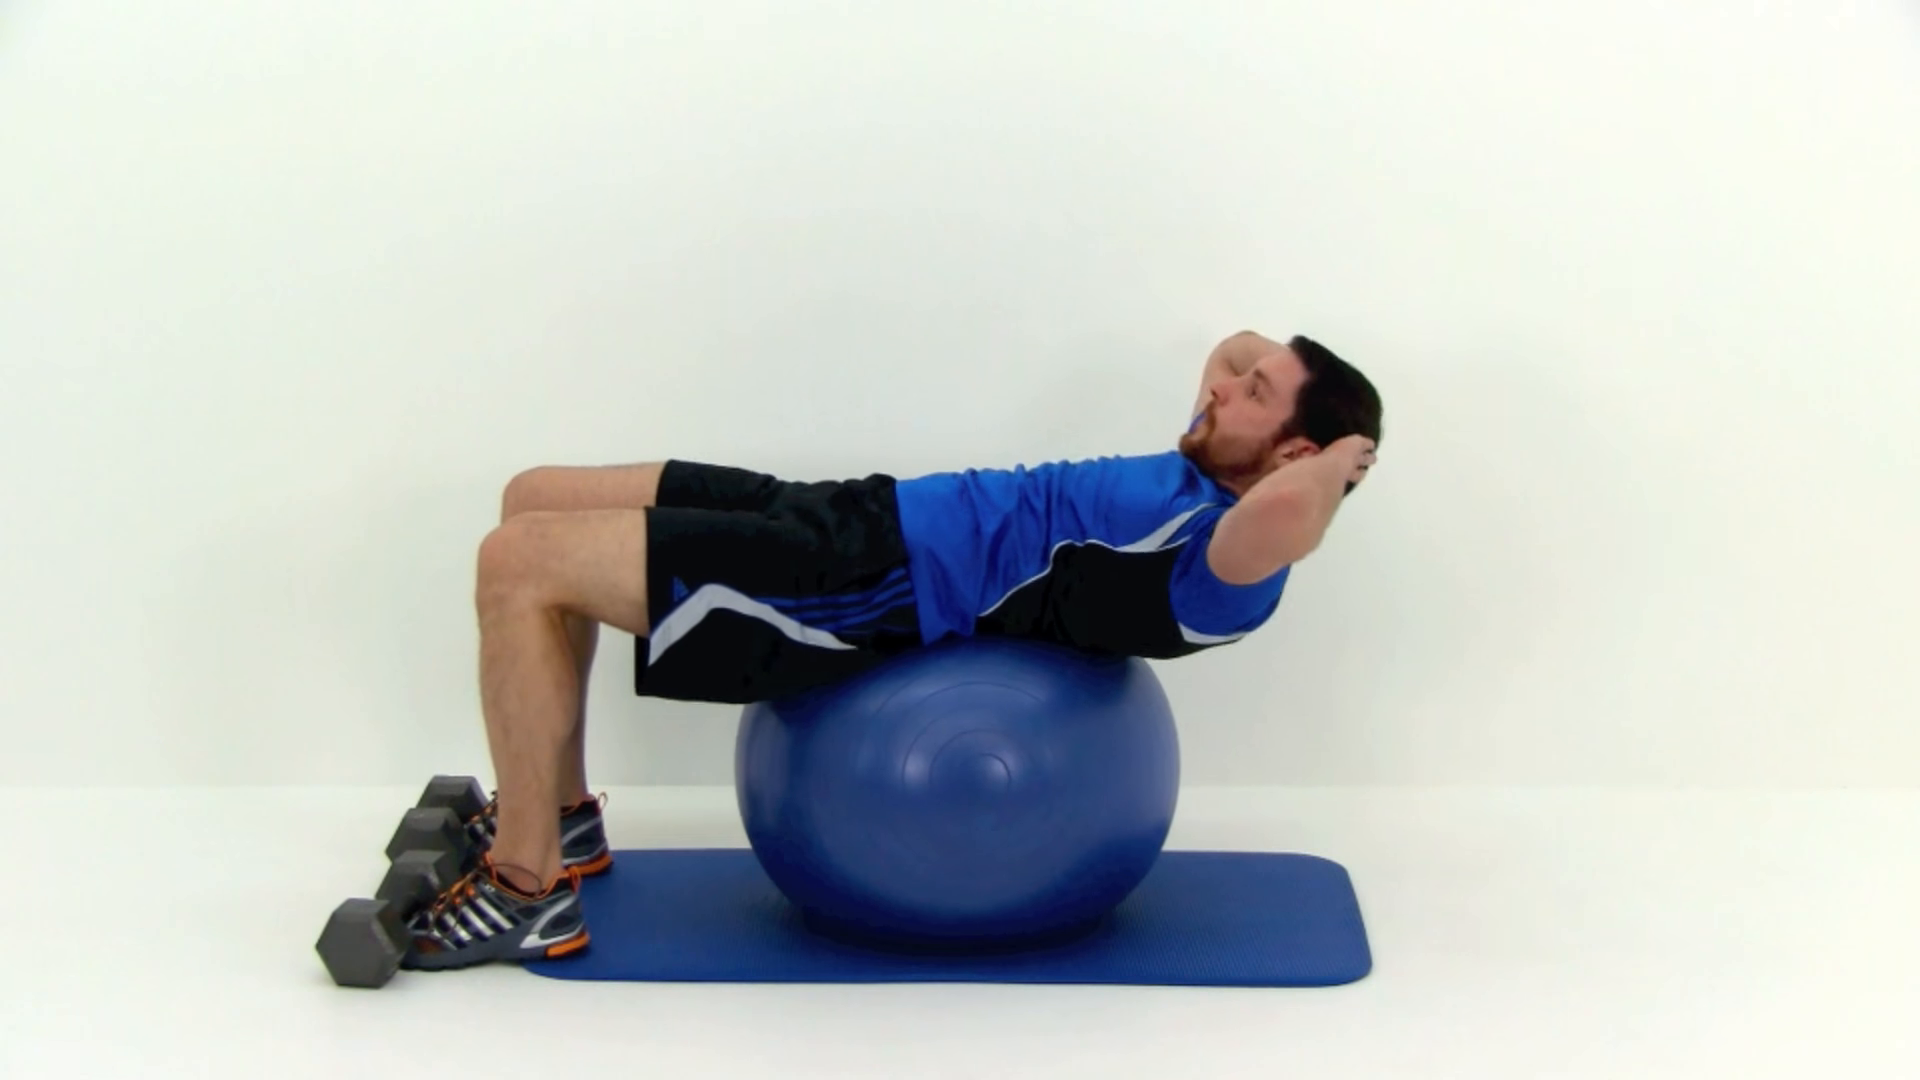yogaball: (723, 608, 1187, 963)
